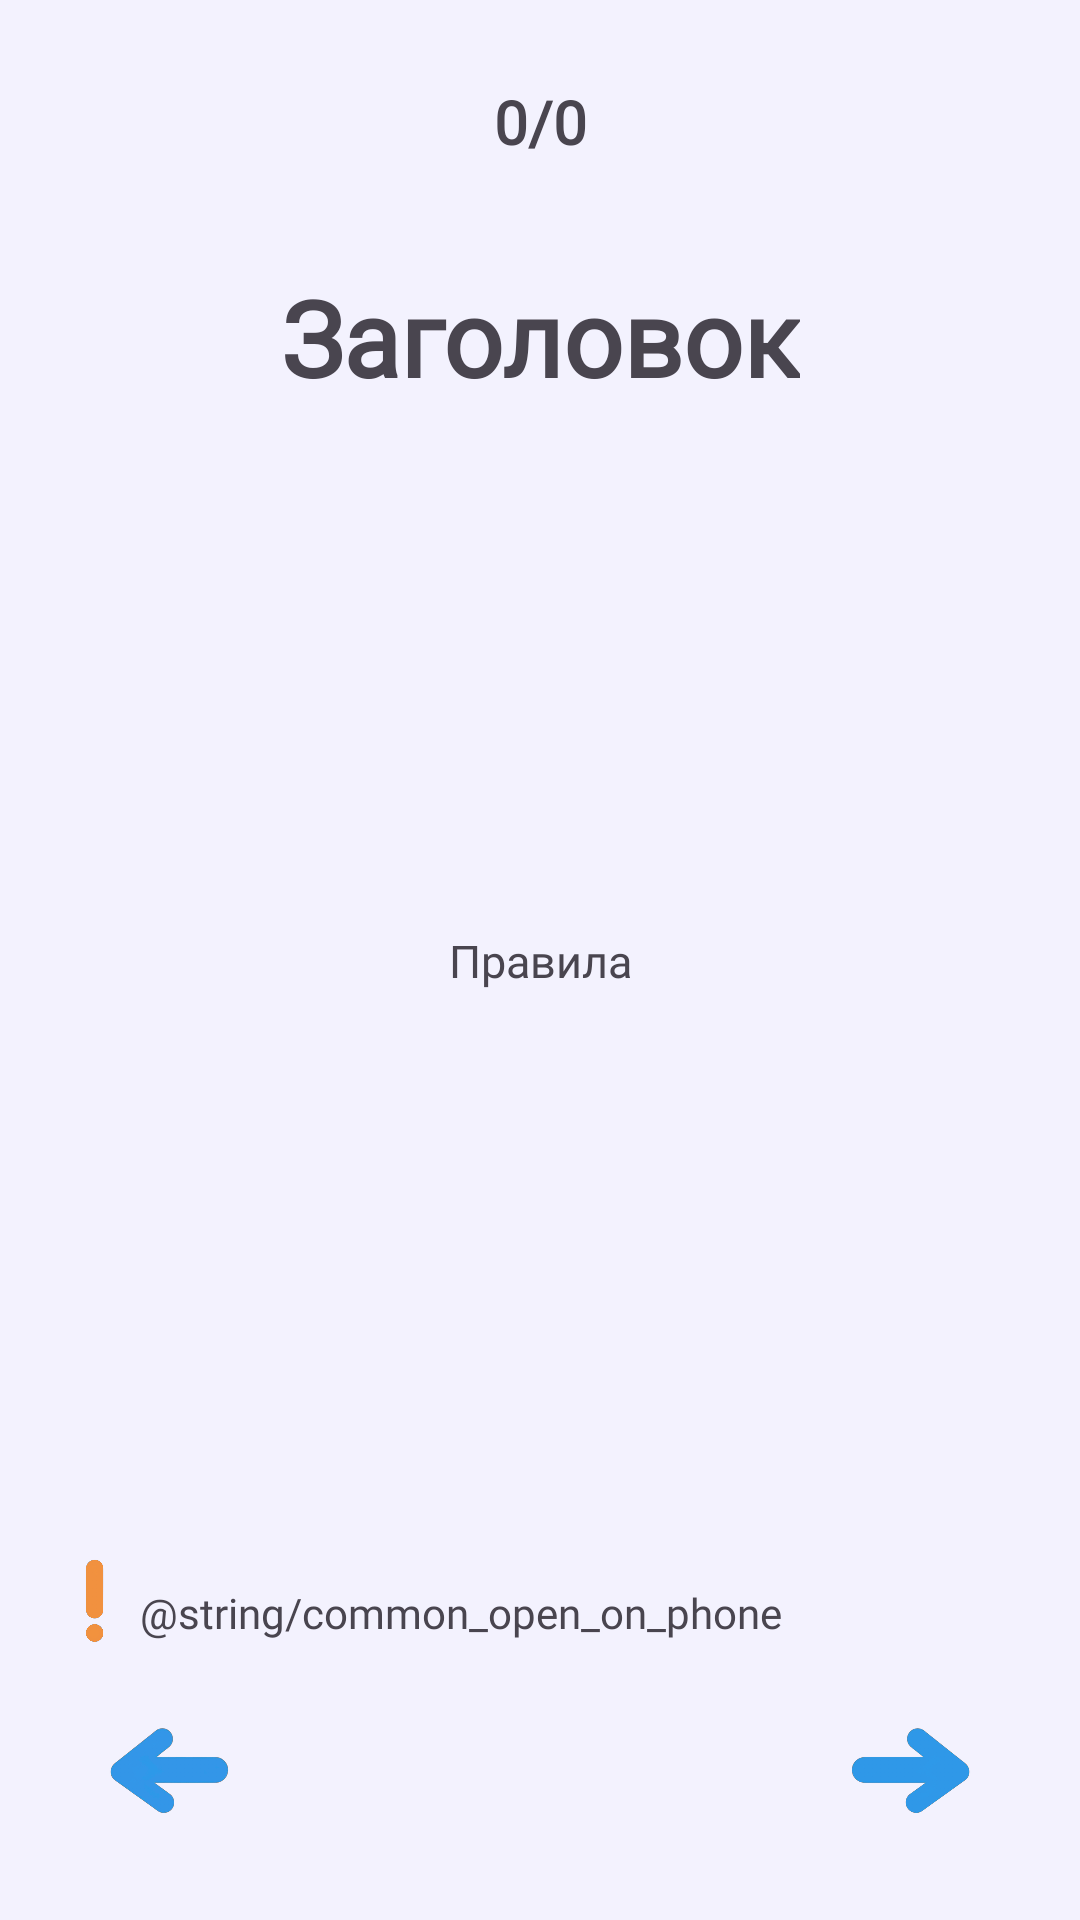

Icons on this 1080px x 1920px Android screen, each with the point to tap as point (x, y):
back: point (169, 1770)
exclamation mark: point (94, 1601)
forward: point (911, 1770)
